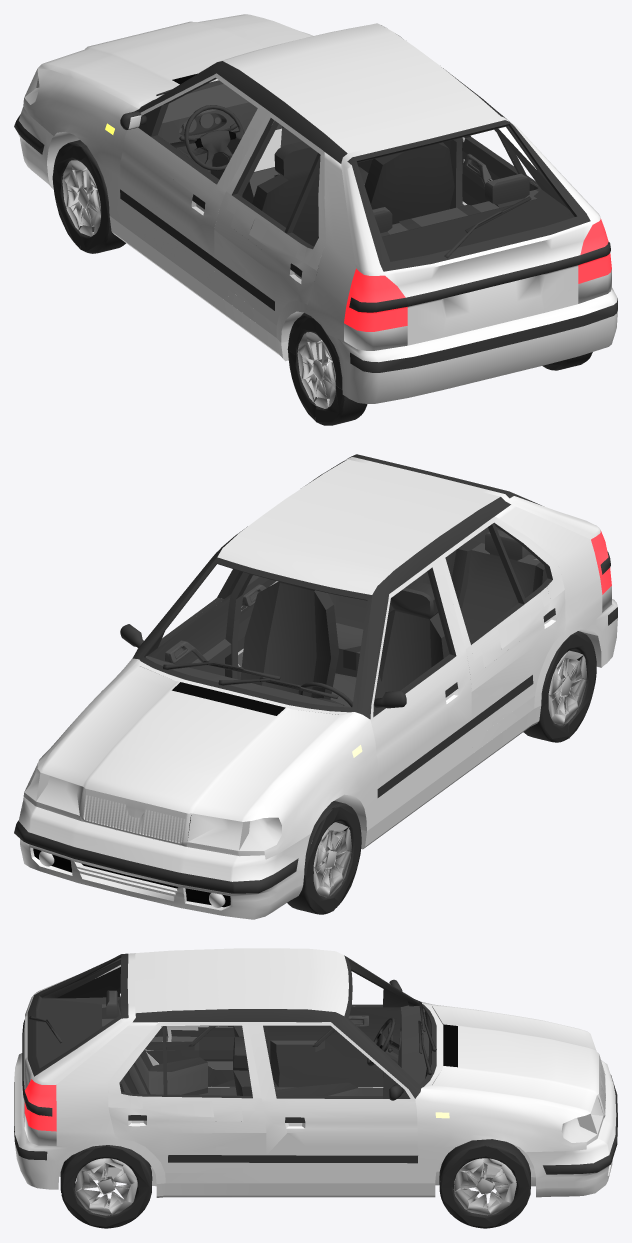
Rendered from comet.glb.
3 renders of one model, top to bottom at view 1: azimuth 30°, elevation 25°; view 2: azimuth 150°, elevation 25°; view 3: azimuth 270°, elevation 25°, orthographic. The views are drawn at different scales.
Parts seen in each view (by area): view 1: body, door_FL, door_RL, wheel_FL, wheel_RL, door_RR, steering_wheel; view 2: body, door_FL, door_RL, wheel_FL, wheel_RL, door_FR, door_RR; view 3: body, door_FR, door_RR, door_FL, wheel_FR, wheel_RR, door_RL, steering_wheel.
Part boxes in pixels (left/top/right/bottom): body: left=14, top=14, right=617, bottom=403; door_FL: left=120, top=73, right=268, bottom=292; door_RL: left=214, top=111, right=325, bottom=337; wheel_FL: left=52, top=140, right=125, bottom=253; wheel_RL: left=287, top=314, right=367, bottom=425; door_RR: left=459, top=133, right=539, bottom=206; steering_wheel: left=184, top=105, right=244, bottom=170; body: left=14, top=454, right=617, bottom=919; door_FL: left=370, top=556, right=472, bottom=822; door_RL: left=440, top=516, right=565, bottom=753; wheel_FL: left=287, top=801, right=361, bottom=914; wheel_RL: left=523, top=631, right=596, bottom=742; door_FR: left=146, top=552, right=242, bottom=677; door_RR: left=237, top=575, right=278, bottom=679; body: left=14, top=948, right=617, bottom=1197; door_FR: left=247, top=1022, right=417, bottom=1183; door_RR: left=108, top=1022, right=266, bottom=1183; door_FL: left=268, top=969, right=408, bottom=1087; wheel_FR: left=439, top=1139, right=530, bottom=1228; wheel_RR: left=60, top=1145, right=152, bottom=1228; door_RL: left=116, top=987, right=235, bottom=1087; steering_wheel: left=367, top=1017, right=395, bottom=1066.
Size of the model in its own units: 1.7 by 1.42 by 3.88.
